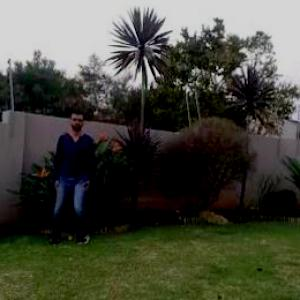follow: (55, 107, 96, 245)
